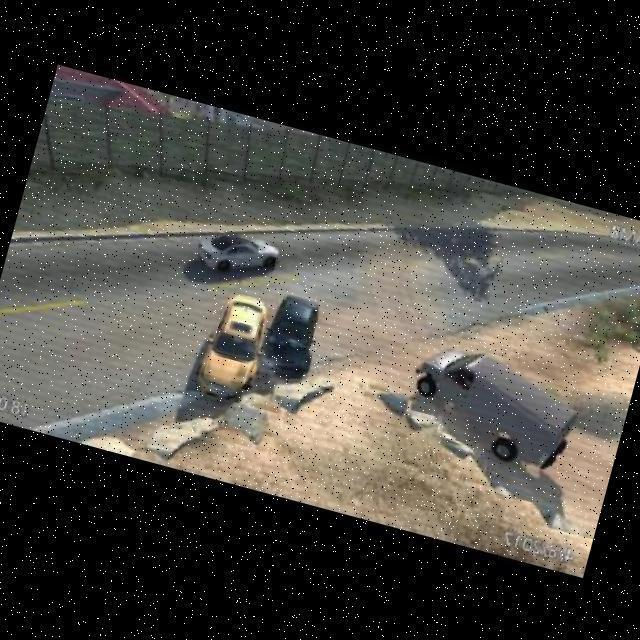accident: (191, 266, 332, 419)
